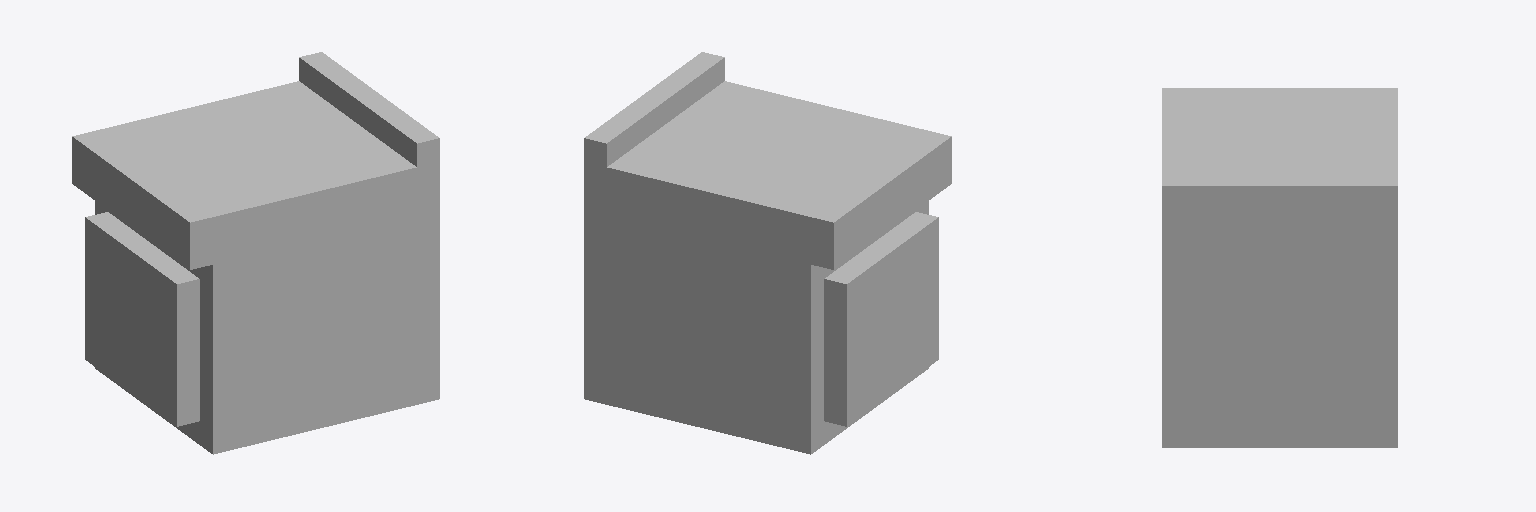
The model's file is kitchen_stand 3.obj.
3 views of the same model, side by side, from view 1: azimuth 30°, elevation 25°; view 2: azimuth 150°, elevation 25°; view 3: azimuth 270°, elevation 25° (orthographic).
Parts seen in each view (by area): view 1: kitchen_stand 3; view 2: kitchen_stand 3; view 3: kitchen_stand 3.
Part boxes in pixels (left/top/right/bottom): kitchen_stand 3: left=72, top=52, right=439, bottom=454; kitchen_stand 3: left=584, top=52, right=951, bottom=454; kitchen_stand 3: left=1162, top=88, right=1397, bottom=447.
Size of the model in its own units: 11 by 11 by 9.